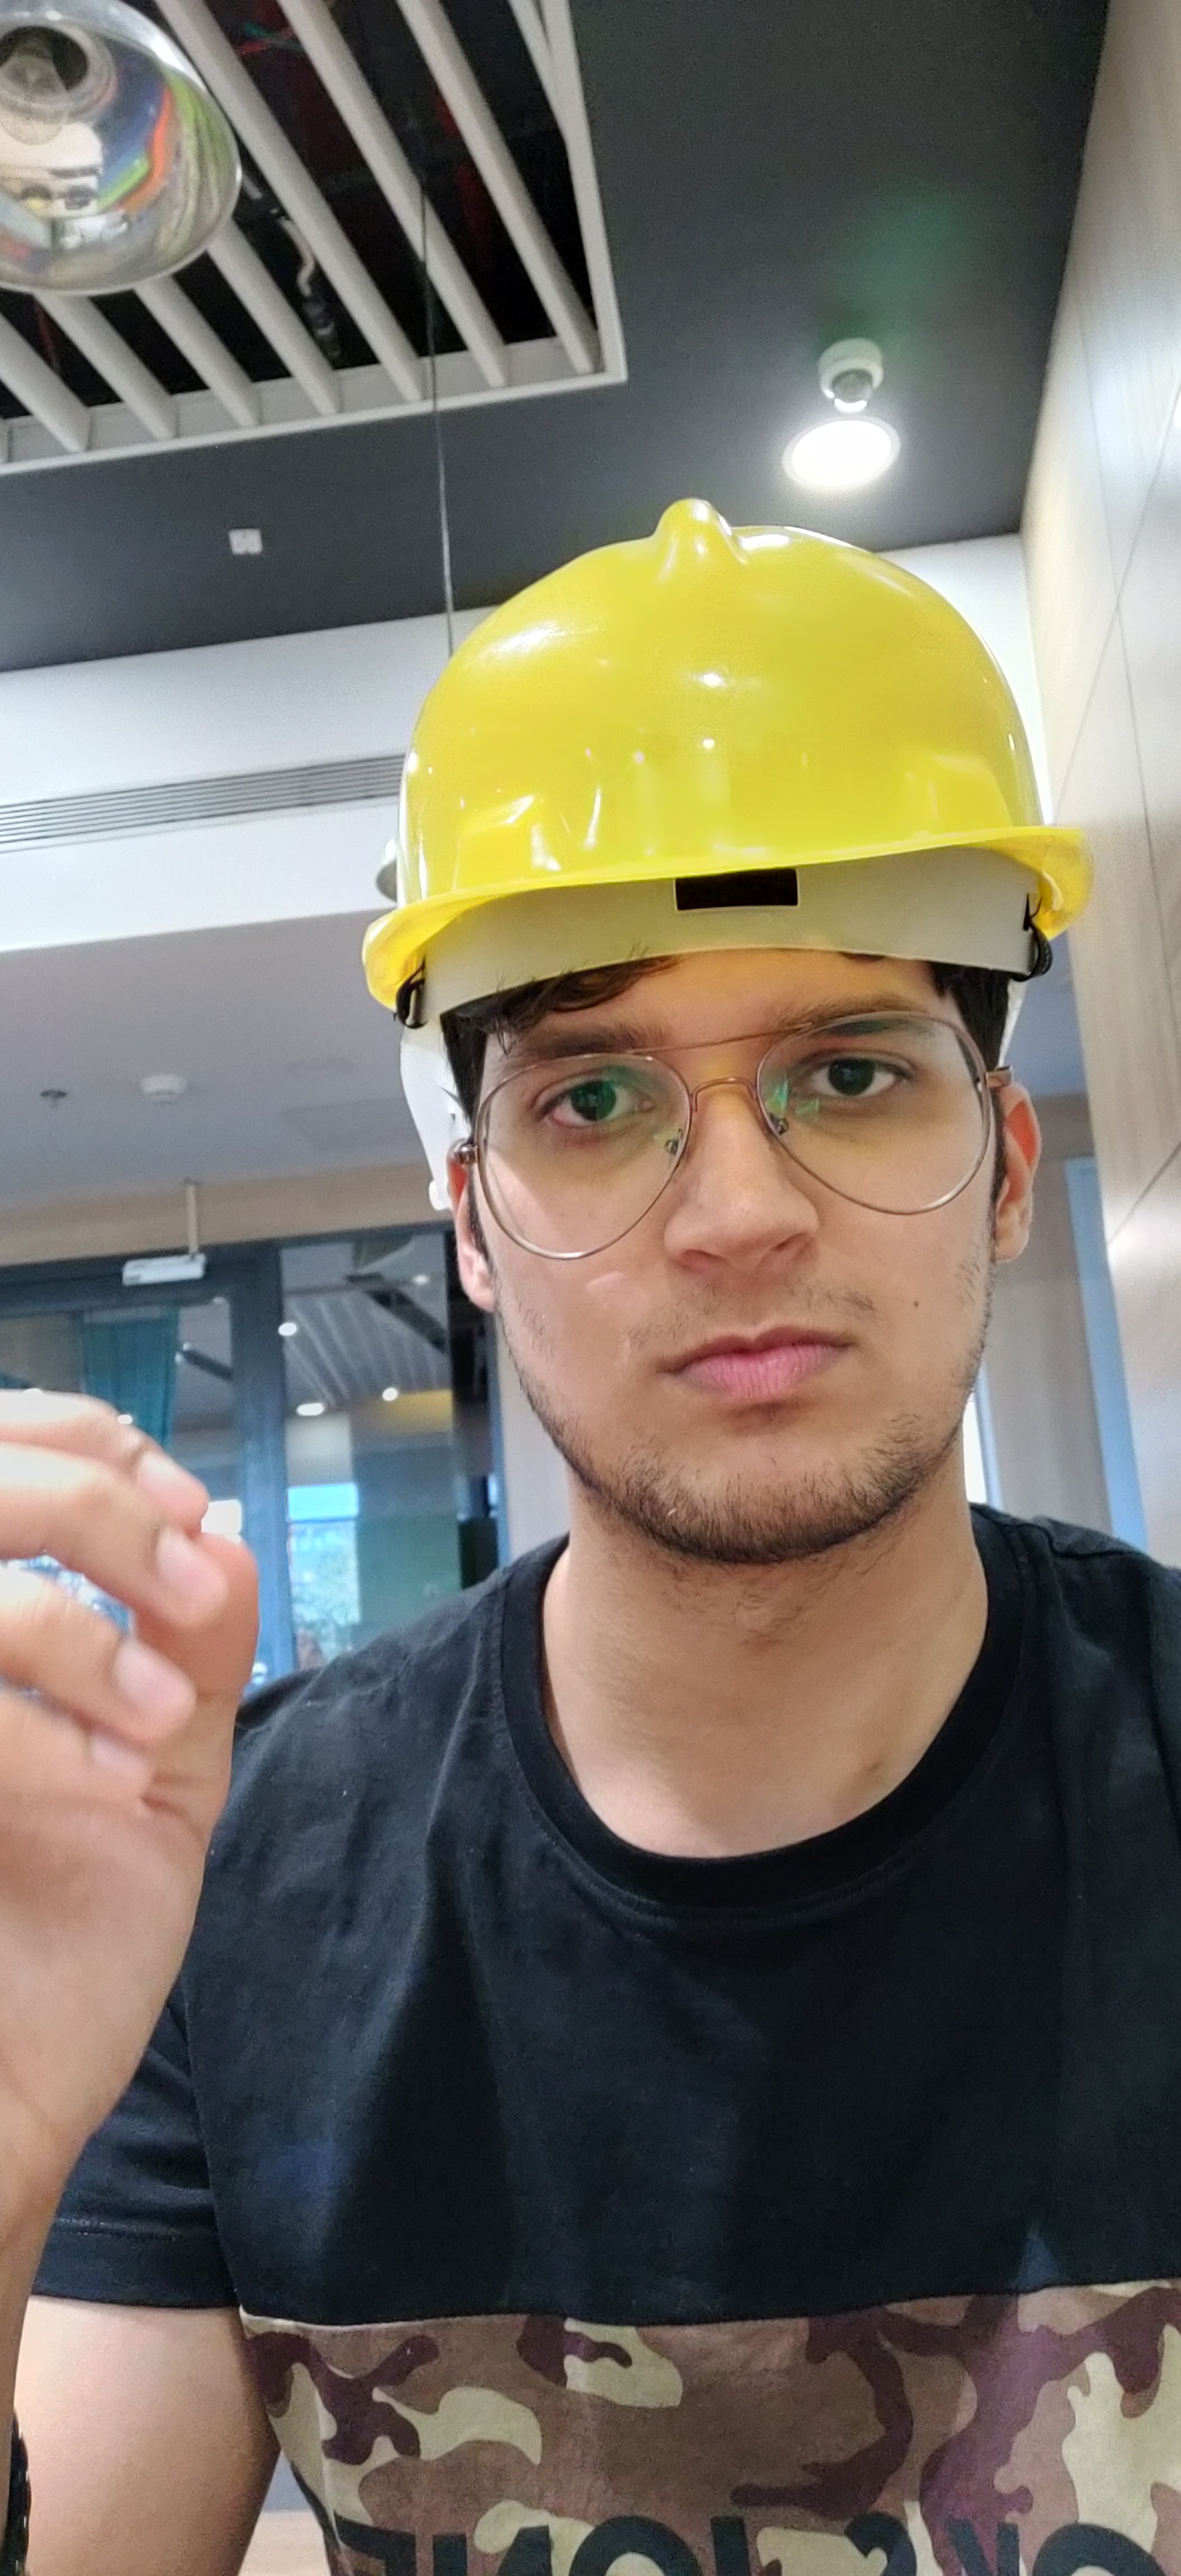Person_wearing_helmet: (247, 487, 1136, 1215)
